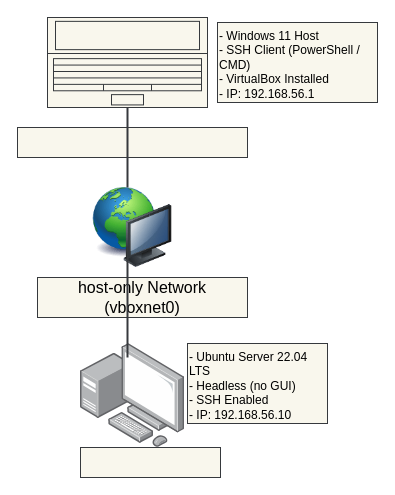
Some shapes in this 395 by 495 pixel diagram are drawn without their labels. The shapes that lost their labels are listed below. From the top down, each one's centre as x and y in pixels, then its label:
(132,142): window 11 workstation
(150,462): ubuntu server vm
